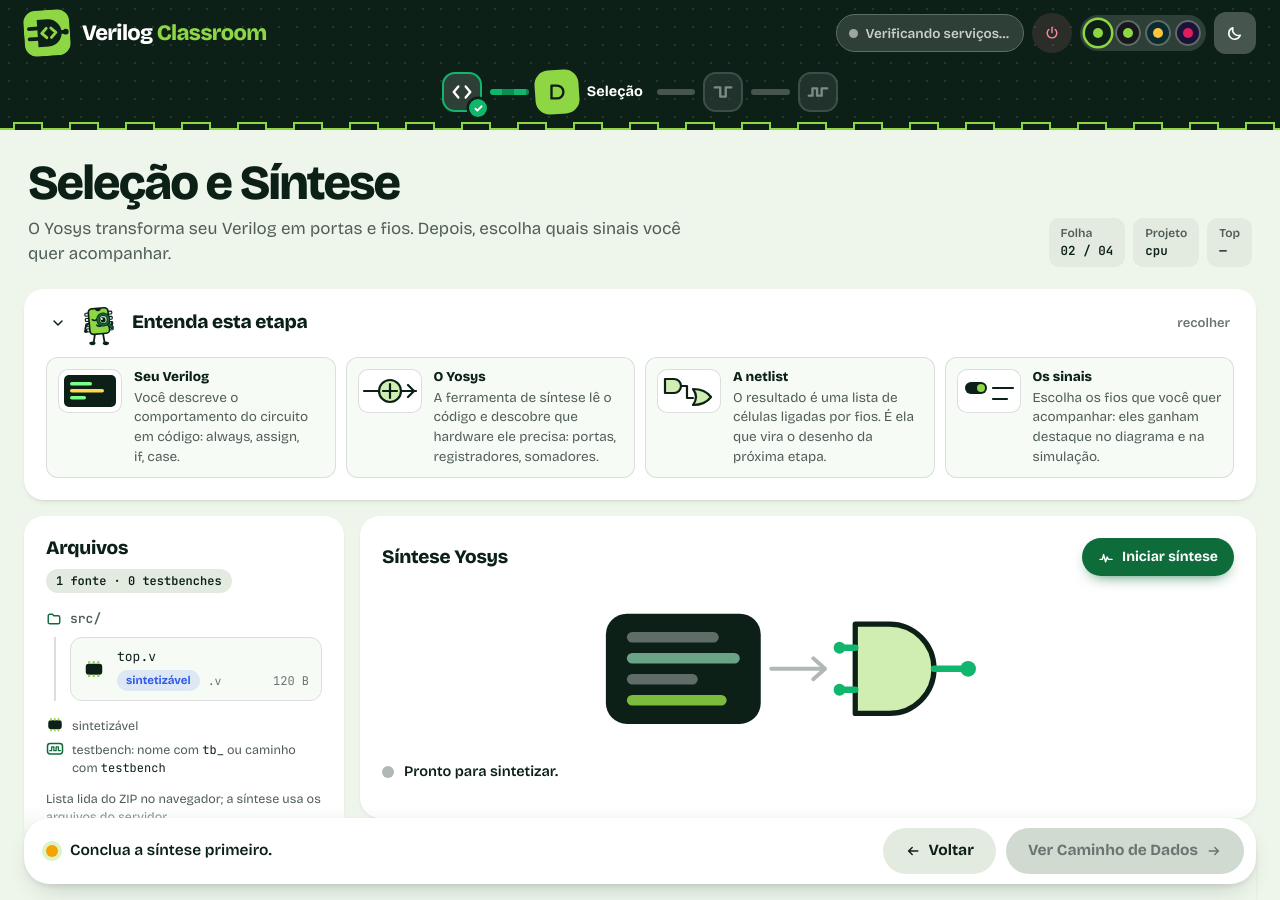
Test: Tela 2b — módulo top (#27) › top fora da netlist é rejeitado com erro seguro
What coordinates should you click on to do the following:
click the button "Iniciar síntese"
I would click on:
 (1158, 557)
Its box is [1082,538,1234,576].
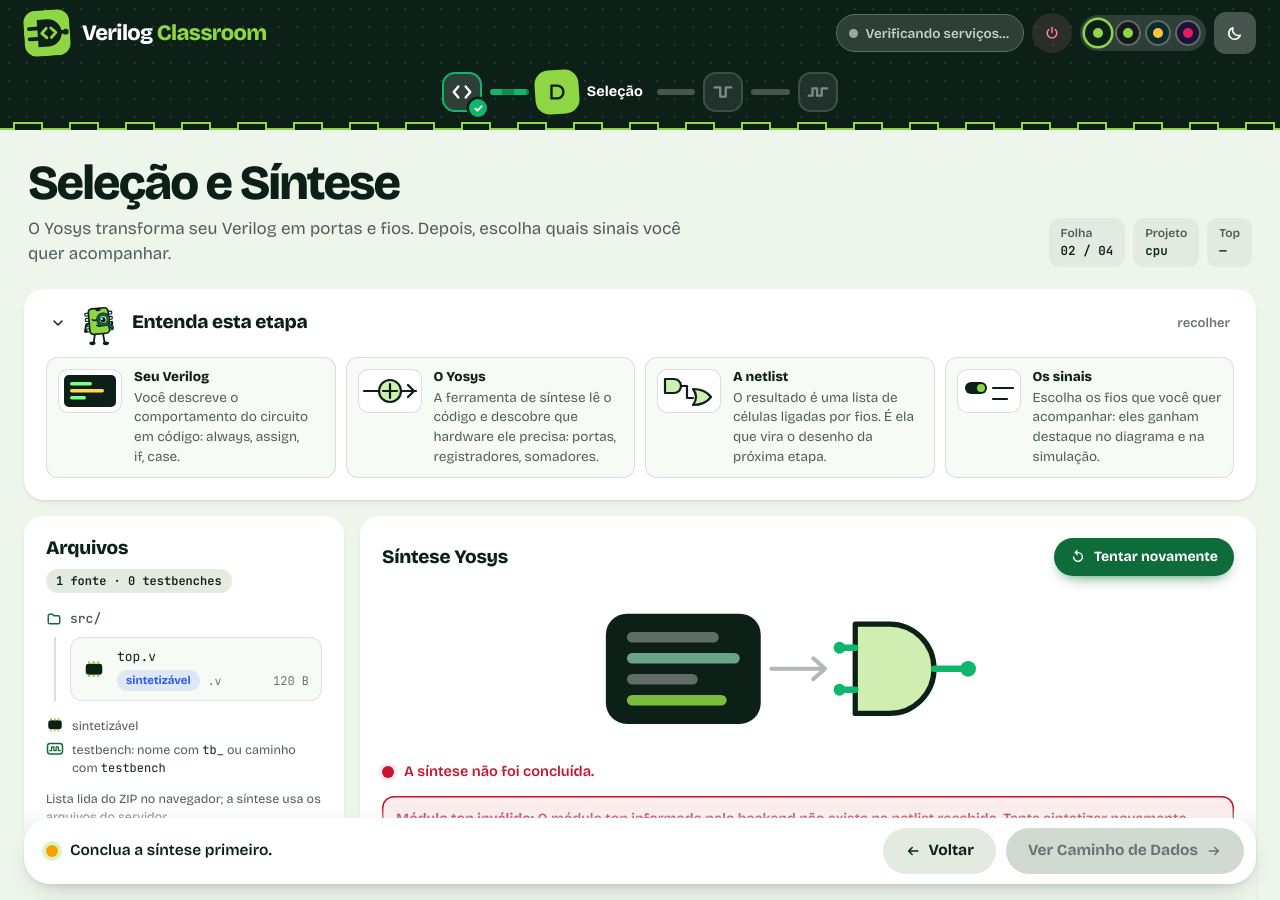
Expected: the button "Ver Caminho de Dados" is disabled, [1006,828,1244,874]
Expected: the message that starts with "Módulo top inválido" shows "O módulo top informado pelo backend não existe na netlist recebida. Tente sintetizar novamente.", [538,810,1190,827]
